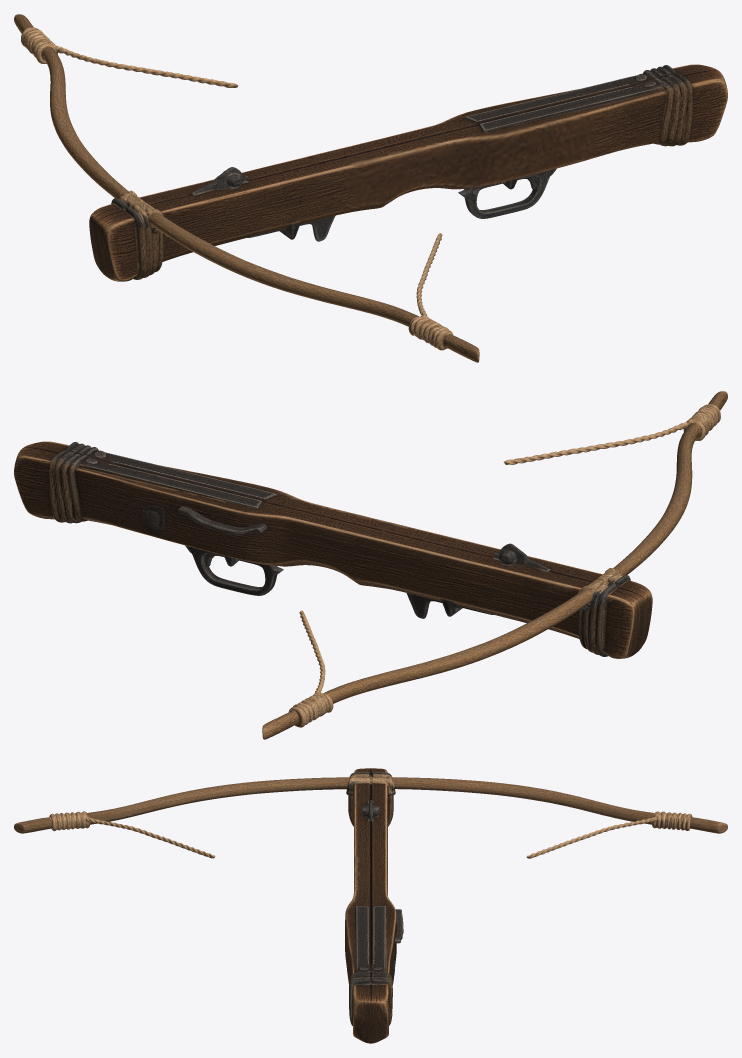
Rendered from Meshy_AI_Rustic_Crossbow_Conce_0924164616_texture.fbx.
3 views of the same model, one above another, from view 1: azimuth 30°, elevation 25°; view 2: azimuth 150°, elevation 25°; view 3: azimuth 270°, elevation 25° (orthographic). The views are drawn at different scales.
Parts seen in each view (by area): view 1: Mesh_0; view 2: Mesh_0; view 3: Mesh_0.
Part boxes in pixels (box(x1,y1,x2,y2)): Mesh_0: box(14, 14, 727, 362); Mesh_0: box(14, 391, 727, 739); Mesh_0: box(14, 768, 727, 1043).
Bounding box in the file's own units: 146 × 25.3 × 188.
Materials: 1 (1 with a texture image).
